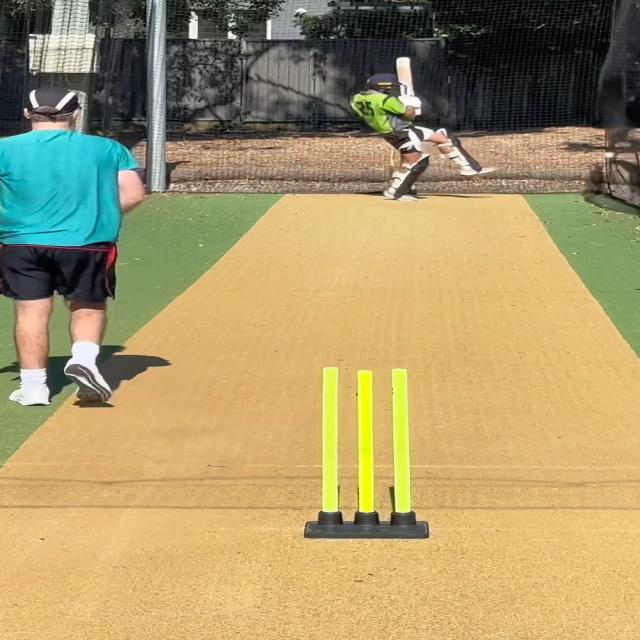stump: (306, 365, 429, 538)
